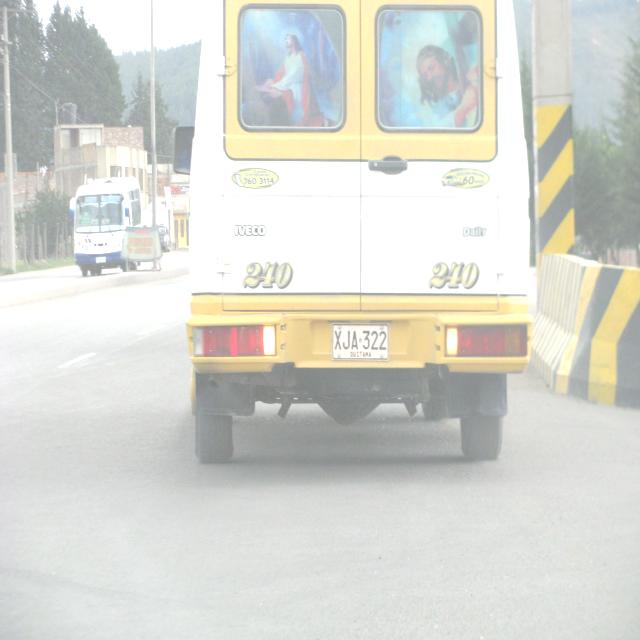placa: (331, 319, 391, 366)
